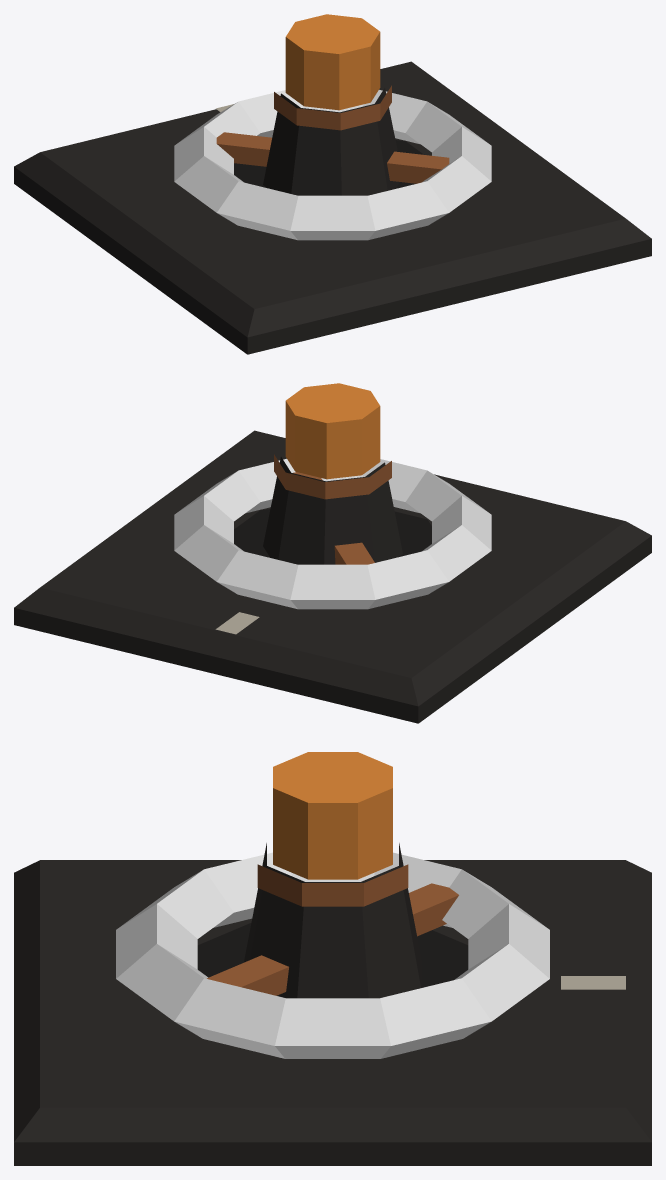
File: str_t1_mex.0dd61abb.raw.glb
3 renders of one model, top to bottom at view 1: azimuth 30°, elevation 25°; view 2: azimuth 150°, elevation 25°; view 3: azimuth 270°, elevation 25°, orthographic. The views are drawn at different scales.
Parts seen in each view (by area): view 1: lod0; view 2: lod0; view 3: lod0.
Part boxes in pixels (<box>): lod0: <box>14,14,651,354</box>; lod0: <box>14,383,651,723</box>; lod0: <box>14,752,651,1165</box>.
Size of what is drawn, in the model's own units: 1.96 by 0.86 by 1.96.
